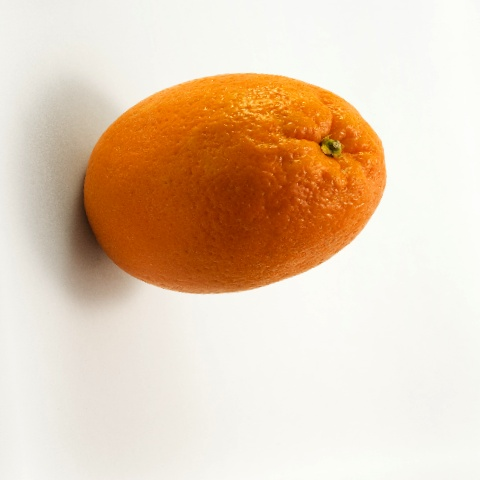orange: (30, 18, 441, 369)
